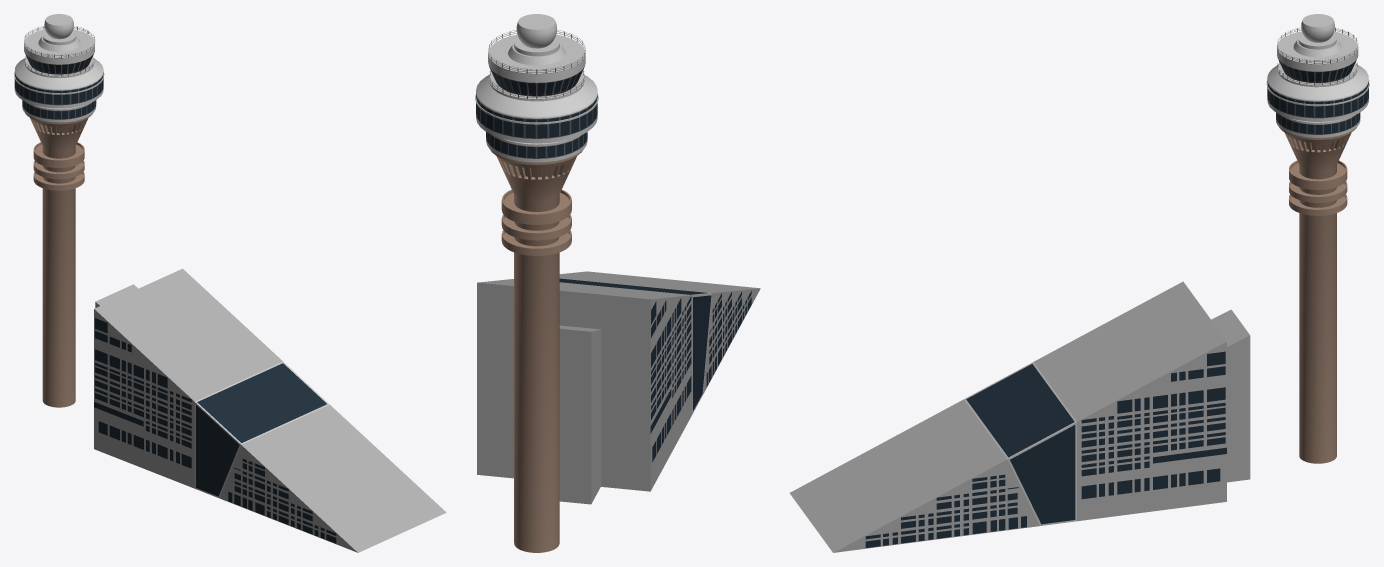
File: tower.glb
3 renders of one model, left to right at view 1: azimuth 30°, elevation 25°; view 2: azimuth 150°, elevation 25°; view 3: azimuth 270°, elevation 25°, orthographic. The views are drawn at different scales.
Visible parts, largest first — view 1: Cube.007, Cylinder.005; view 2: Cube.007, Cylinder.005; view 3: Cube.007, Cylinder.005.
Boxes of the visible parts, x1=… form: Cube.007: x1=94, y1=268, x2=446, y2=552; Cylinder.005: x1=14, y1=14, x2=104, y2=407; Cube.007: x1=477, y1=271, x2=760, y2=504; Cylinder.005: x1=475, y1=14, x2=598, y2=552; Cube.007: x1=789, y1=281, x2=1250, y2=552; Cylinder.005: x1=1266, y1=14, x2=1369, y2=463.
Bounding box in the file's own units: 60.26 × 102 × 124.
